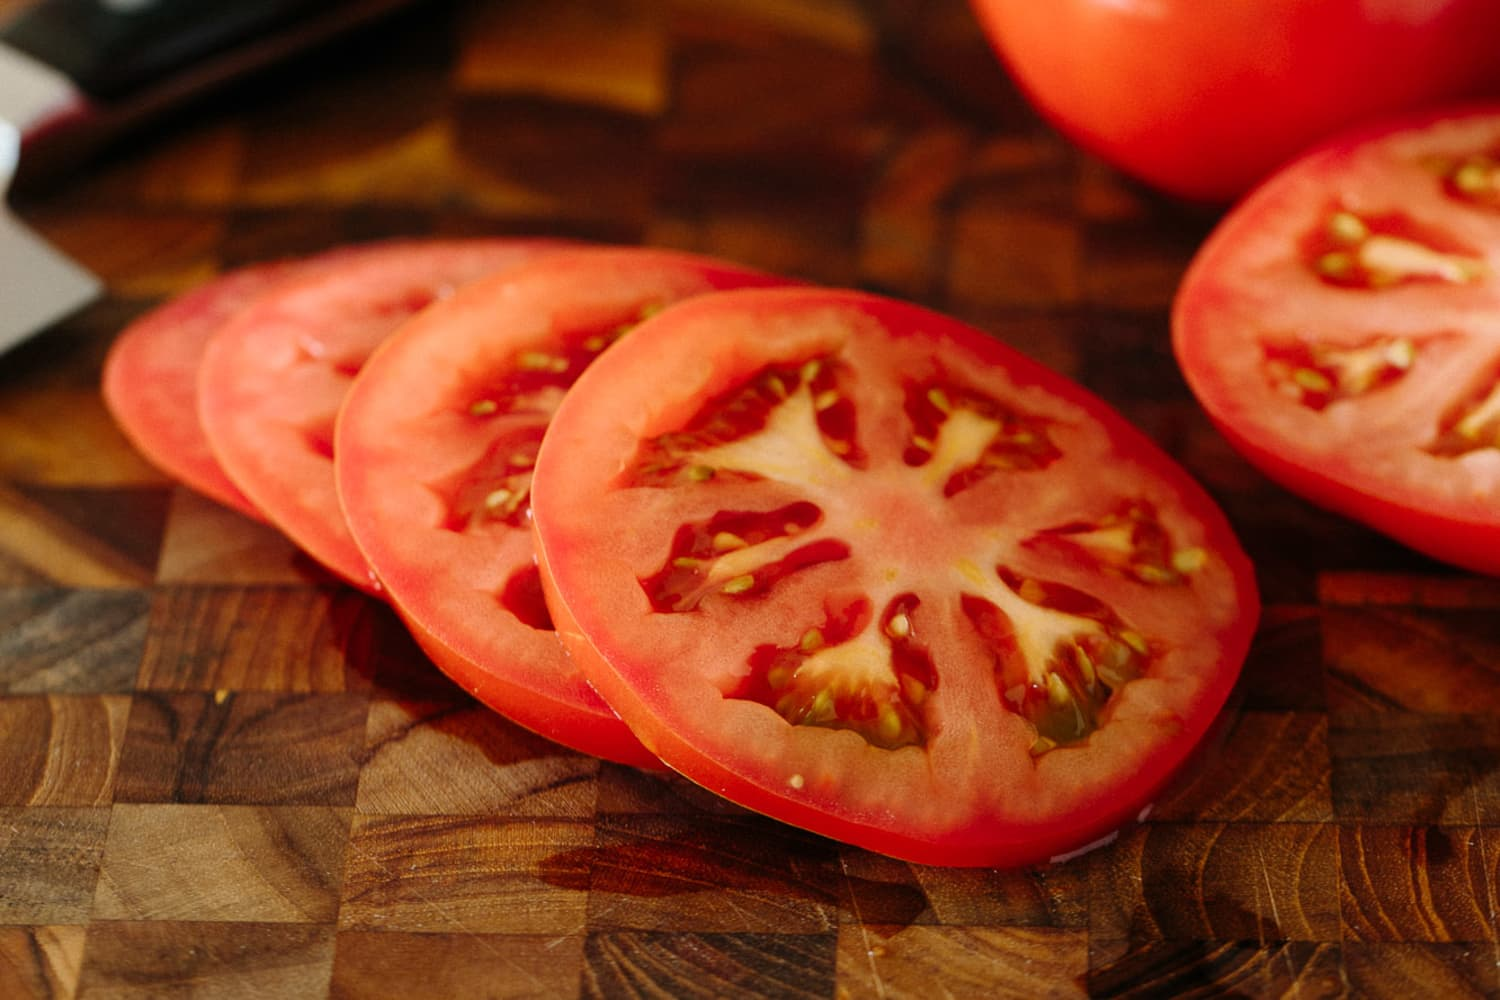tomato: (100, 237, 1263, 871)
